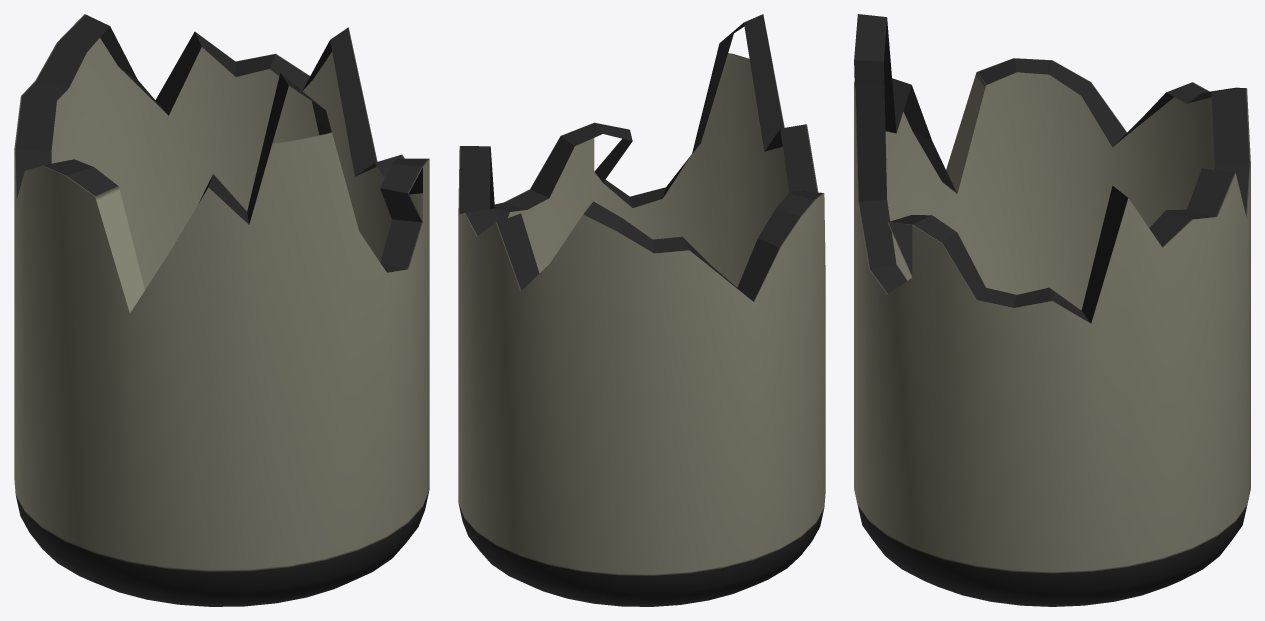
File: wine_bottle_bottom.glb
3 views of the same model, side by side, from view 1: azimuth 30°, elevation 25°; view 2: azimuth 150°, elevation 25°; view 3: azimuth 270°, elevation 25° (orthographic). The views are drawn at different scales.
Parts seen in each view (by area): view 1: Cube.002; view 2: Cube.002; view 3: Cube.002.
Part boxes in pixels (x1,y1,x2,y2): Cube.002: (14, 14, 429, 606); Cube.002: (458, 14, 825, 606); Cube.002: (854, 14, 1250, 606).
Bounding box in the file's own units: 1.14 × 1.62 × 1.14.
Materials: 1 (1 with a texture image).
